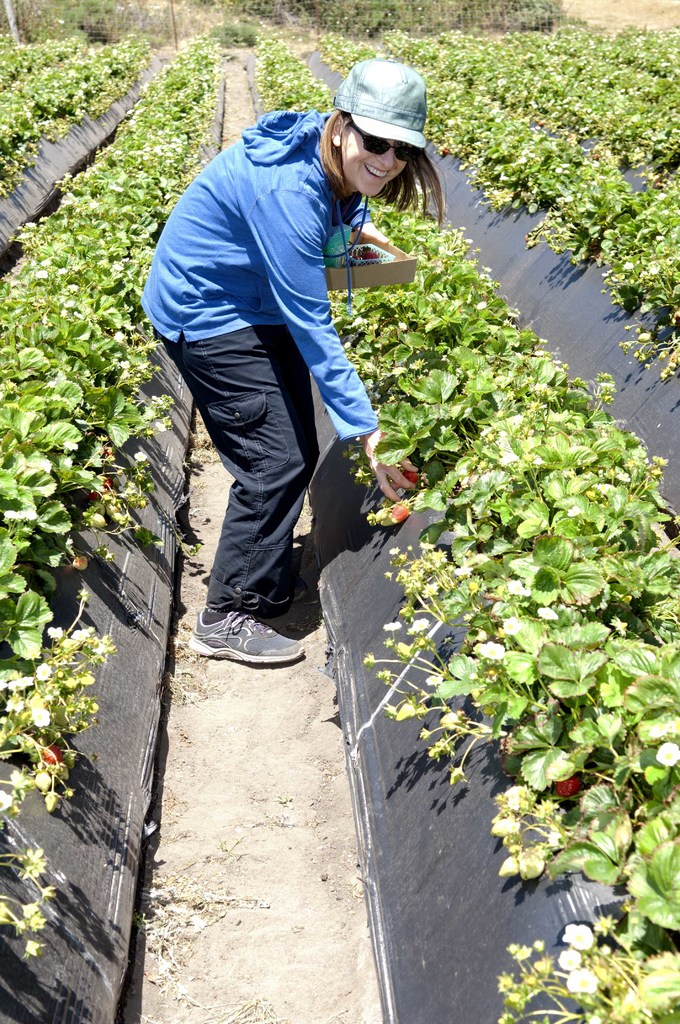person: (139, 55, 444, 665)
